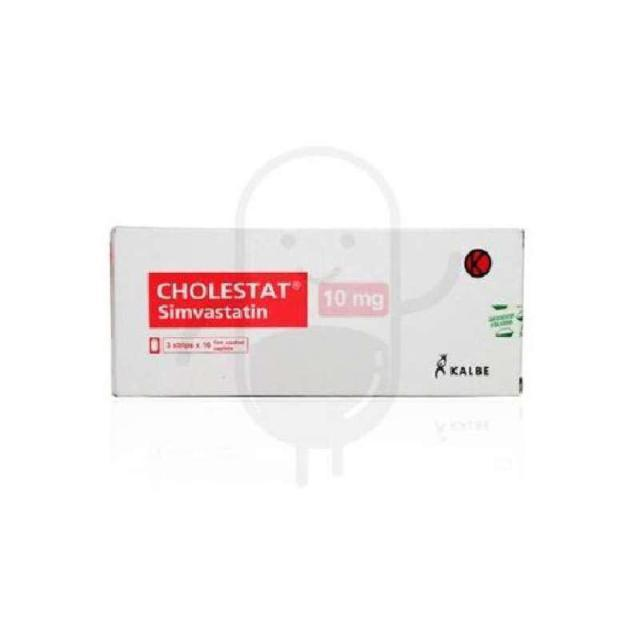drug-name: (156, 274, 292, 301)
